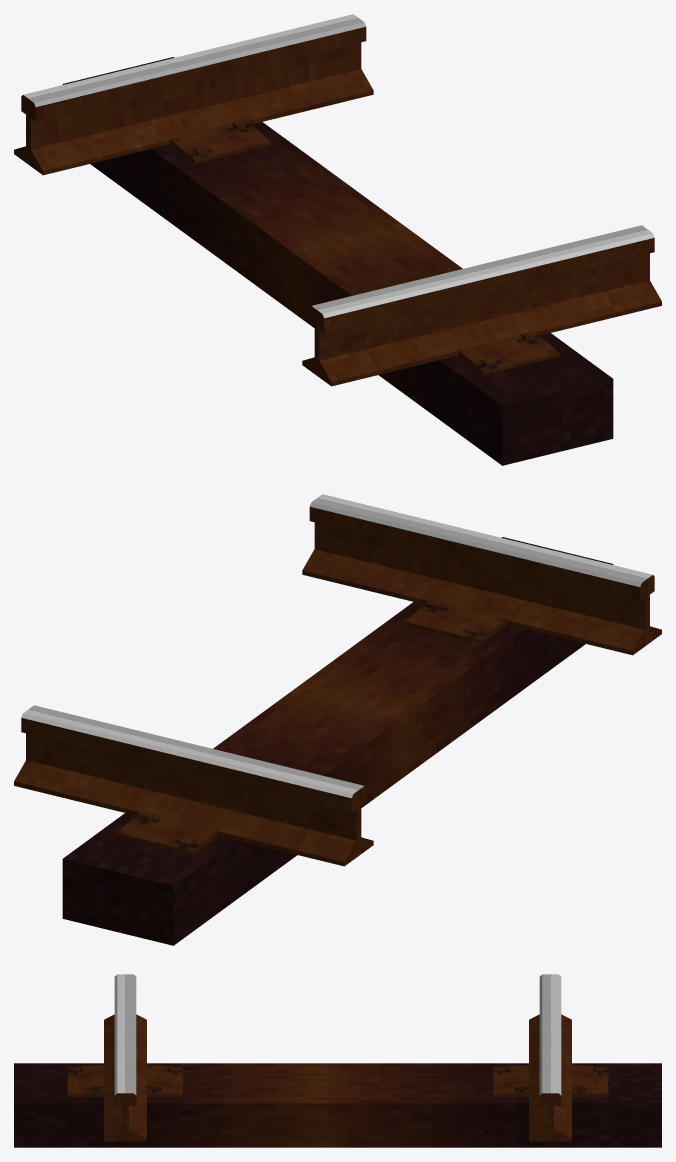
The model's file is track_1m_model.obj.
3 views of the same model, one above another, from view 1: azimuth 30°, elevation 25°; view 2: azimuth 150°, elevation 25°; view 3: azimuth 270°, elevation 25° (orthographic). The views are drawn at different scales.
Parts seen in each view (by area): view 1: RAIL_BASE_Cube.002, RAIL_LEFT_Cube.001, RAIL_RIGHT_Cube.005, RAIL_LEFT.001_Cube.008, RAIL_RIGHT.001_Cube.007; view 2: RAIL_BASE_Cube.002, RAIL_RIGHT_Cube.005, RAIL_LEFT_Cube.001, RAIL_RIGHT.001_Cube.007, RAIL_LEFT.001_Cube.008; view 3: RAIL_BASE_Cube.002, RAIL_RIGHT_Cube.005, RAIL_LEFT_Cube.001, RAIL_RIGHT.001_Cube.007, RAIL_LEFT.001_Cube.008.
Boxes of the visible parts, <box> form: RAIL_BASE_Cube.002: <box>62,57,613,465</box>; RAIL_LEFT_Cube.001: <box>302,238,661,386</box>; RAIL_RIGHT_Cube.005: <box>14,27,373,175</box>; RAIL_LEFT.001_Cube.008: <box>312,225,654,318</box>; RAIL_RIGHT.001_Cube.007: <box>23,14,365,106</box>; RAIL_BASE_Cube.002: <box>62,537,613,945</box>; RAIL_RIGHT_Cube.005: <box>14,718,373,866</box>; RAIL_LEFT_Cube.001: <box>302,507,661,655</box>; RAIL_RIGHT.001_Cube.007: <box>21,705,363,798</box>; RAIL_LEFT.001_Cube.008: <box>310,494,652,586</box>; RAIL_BASE_Cube.002: <box>14,1063,661,1147</box>; RAIL_RIGHT_Cube.005: <box>529,1014,571,1141</box>; RAIL_LEFT_Cube.001: <box>104,1014,146,1141</box>; RAIL_RIGHT.001_Cube.007: <box>539,974,561,1095</box>; RAIL_LEFT.001_Cube.008: <box>114,974,136,1095</box>.
Bounding box in the file's own units: 1 × 0.3681 × 2.3.
Materials: 1 (1 with a texture image).
